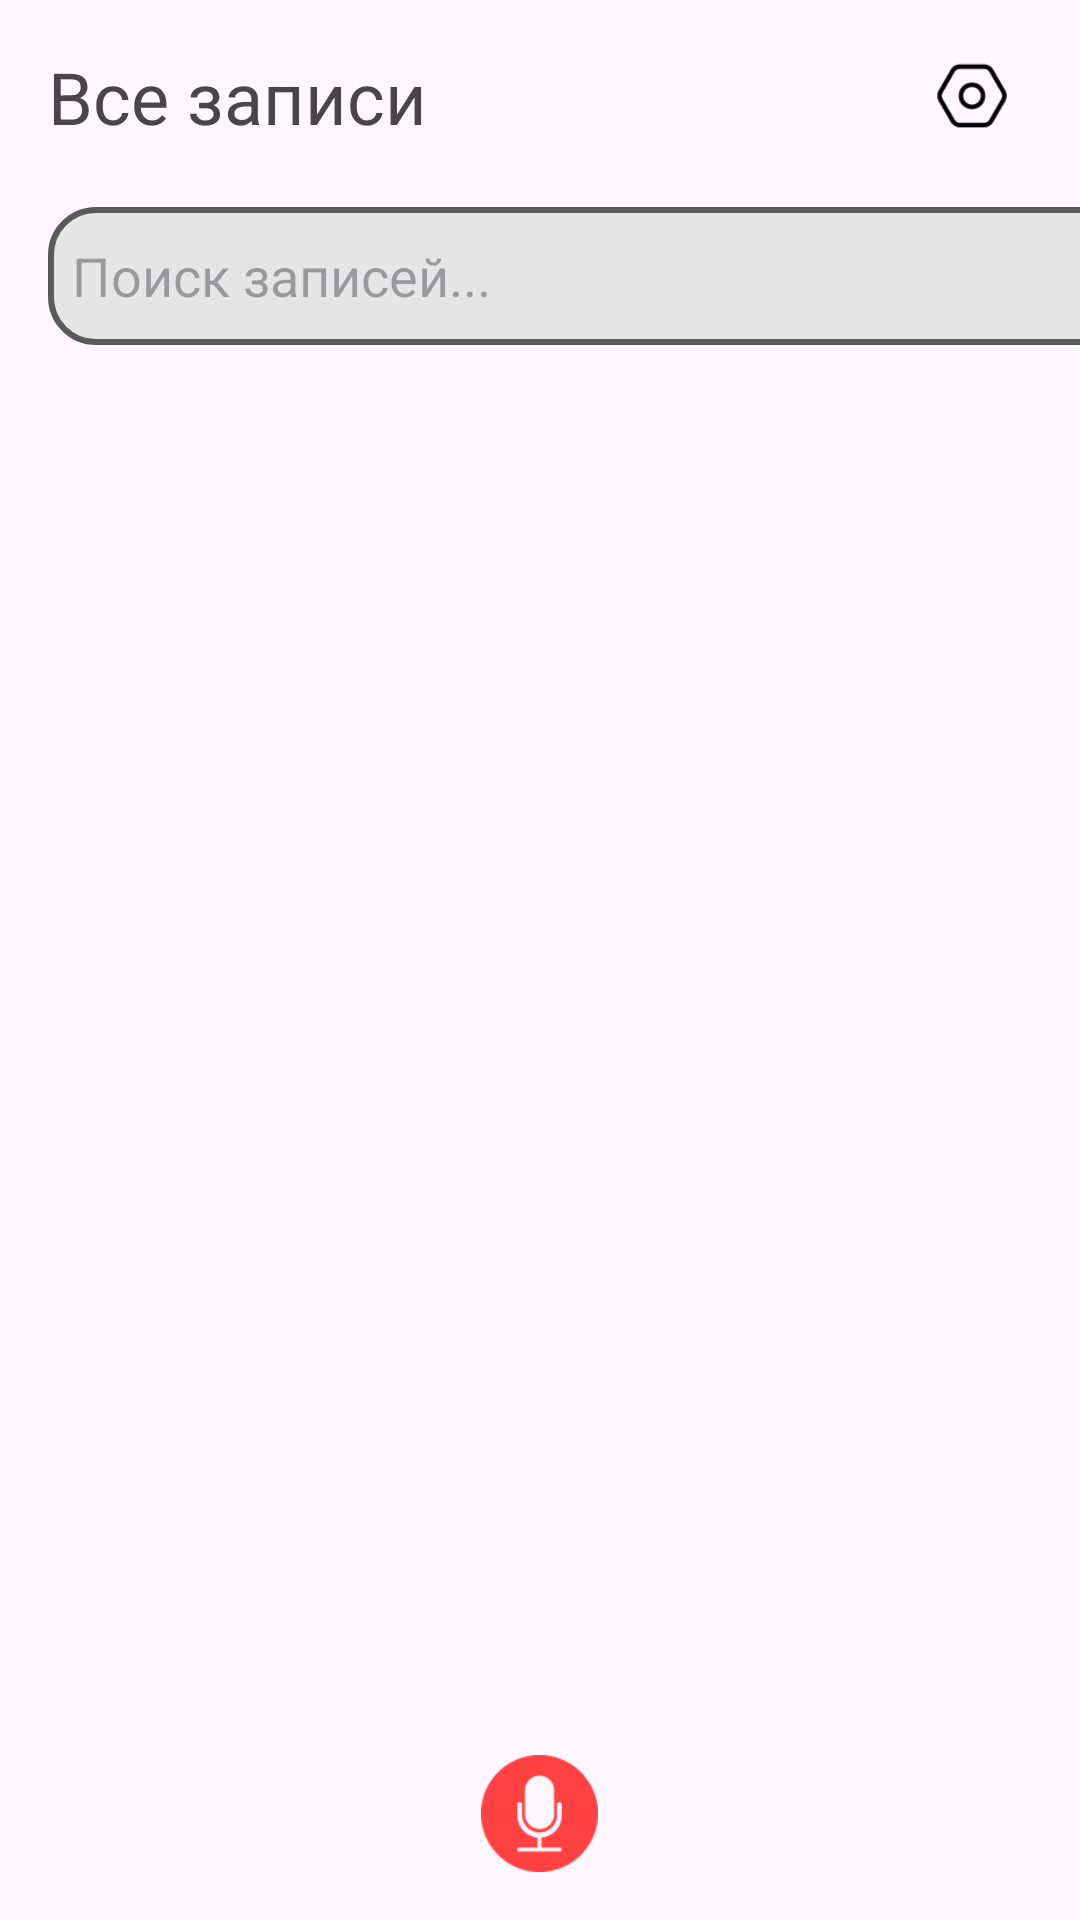

Screen size 1080×1920. Icon name, then its center in pixels as [x,y]:
record: [539,1813]
settings: [972,95]
